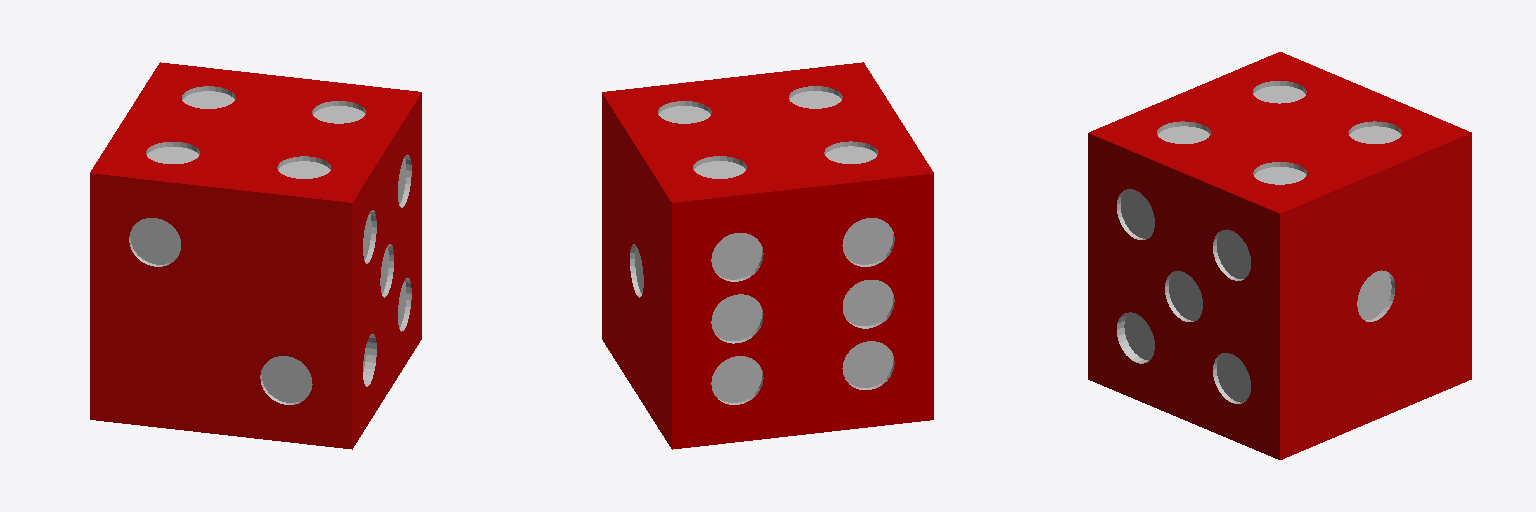
Rendered from tree.obj.
3 views of the same model, side by side, from view 1: azimuth 30°, elevation 25°; view 2: azimuth 150°, elevation 25°; view 3: azimuth 270°, elevation 25° (orthographic).
Visible parts, largest first — view 1: Mesh1_Dice__1_1_Model; view 2: Mesh1_Dice__1_1_Model; view 3: Mesh1_Dice__1_1_Model.
Boxes of the visible parts, x1,y1,x2,y2 form: Mesh1_Dice__1_1_Model: [90, 62, 421, 449]; Mesh1_Dice__1_1_Model: [602, 62, 933, 449]; Mesh1_Dice__1_1_Model: [1088, 52, 1471, 459].
Bounding box in the file's own units: 5.58 × 3.95 × 5.59.